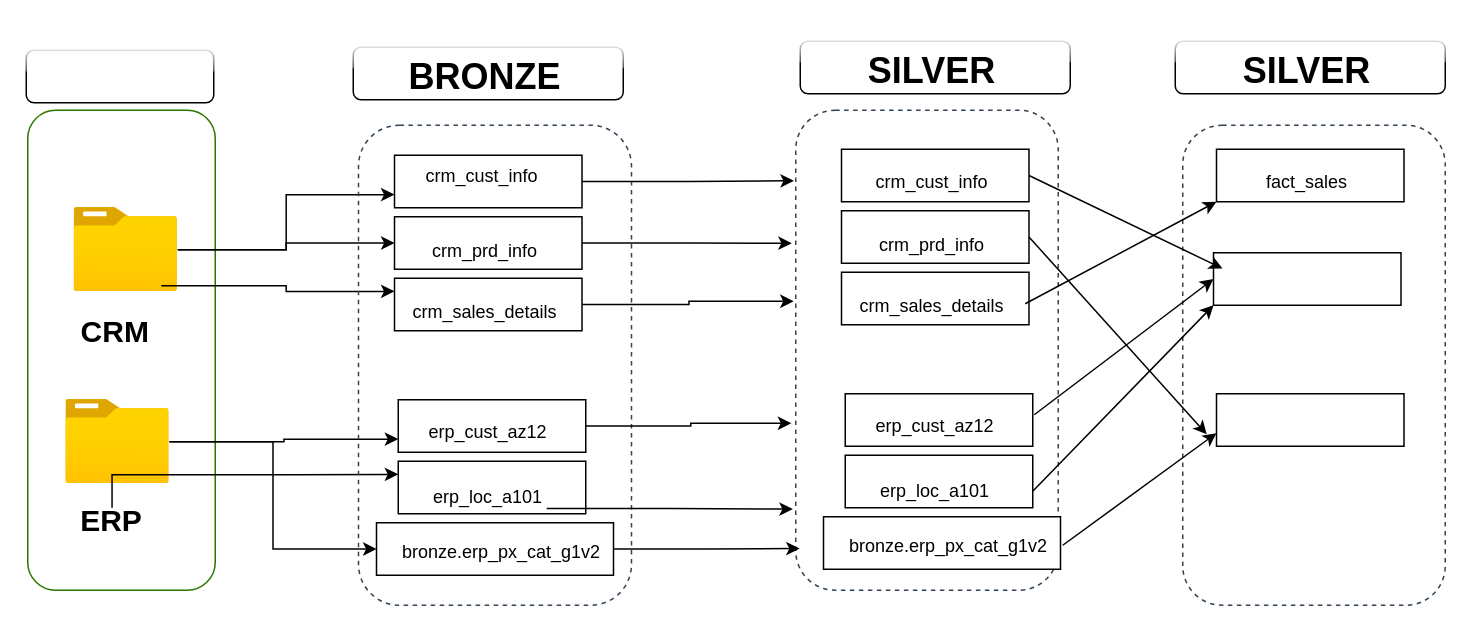
The diagram is 1472 pixels wide and 632 high, and some of its shapes have lost their labels. The shapes that lost their labels are listed below. From the top down, each one's centre as x and y in pixels, then its label:
At (x=119, y=76): "Source".
At (x=1306, y=278): "dim_customers".
At (x=1309, y=419): "dim_products".
